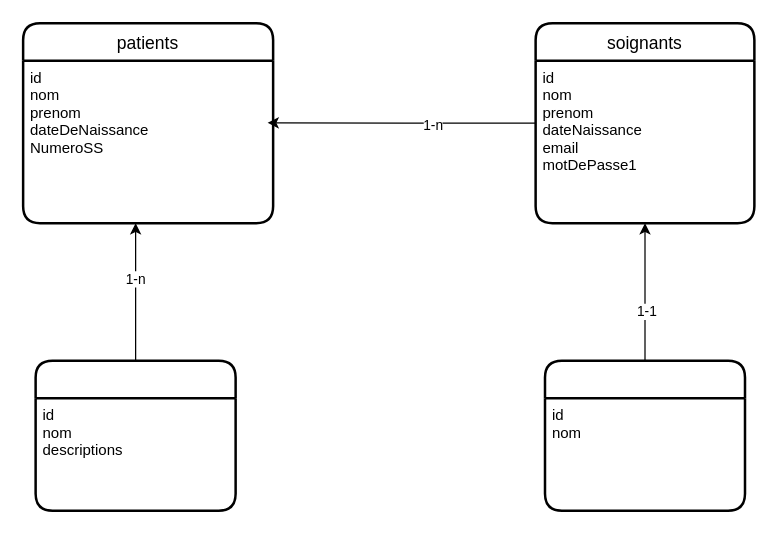
Some shapes in this 776 by 533 pixel diagram are drawn without their labels. The box of each missing label's shape, as (x1, y1, x2, y2) in pixels:
fonctions: (543, 359, 746, 511)
pathologies: (34, 359, 236, 511)
